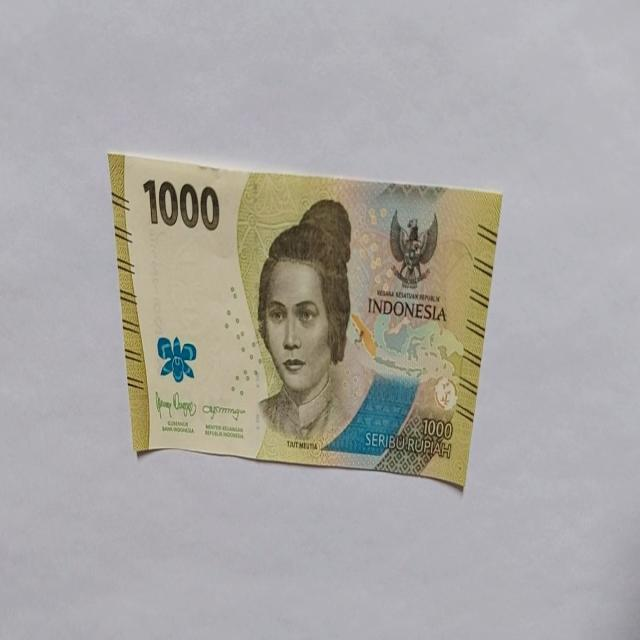seribu rupiah kertas: (107, 150, 503, 490)
